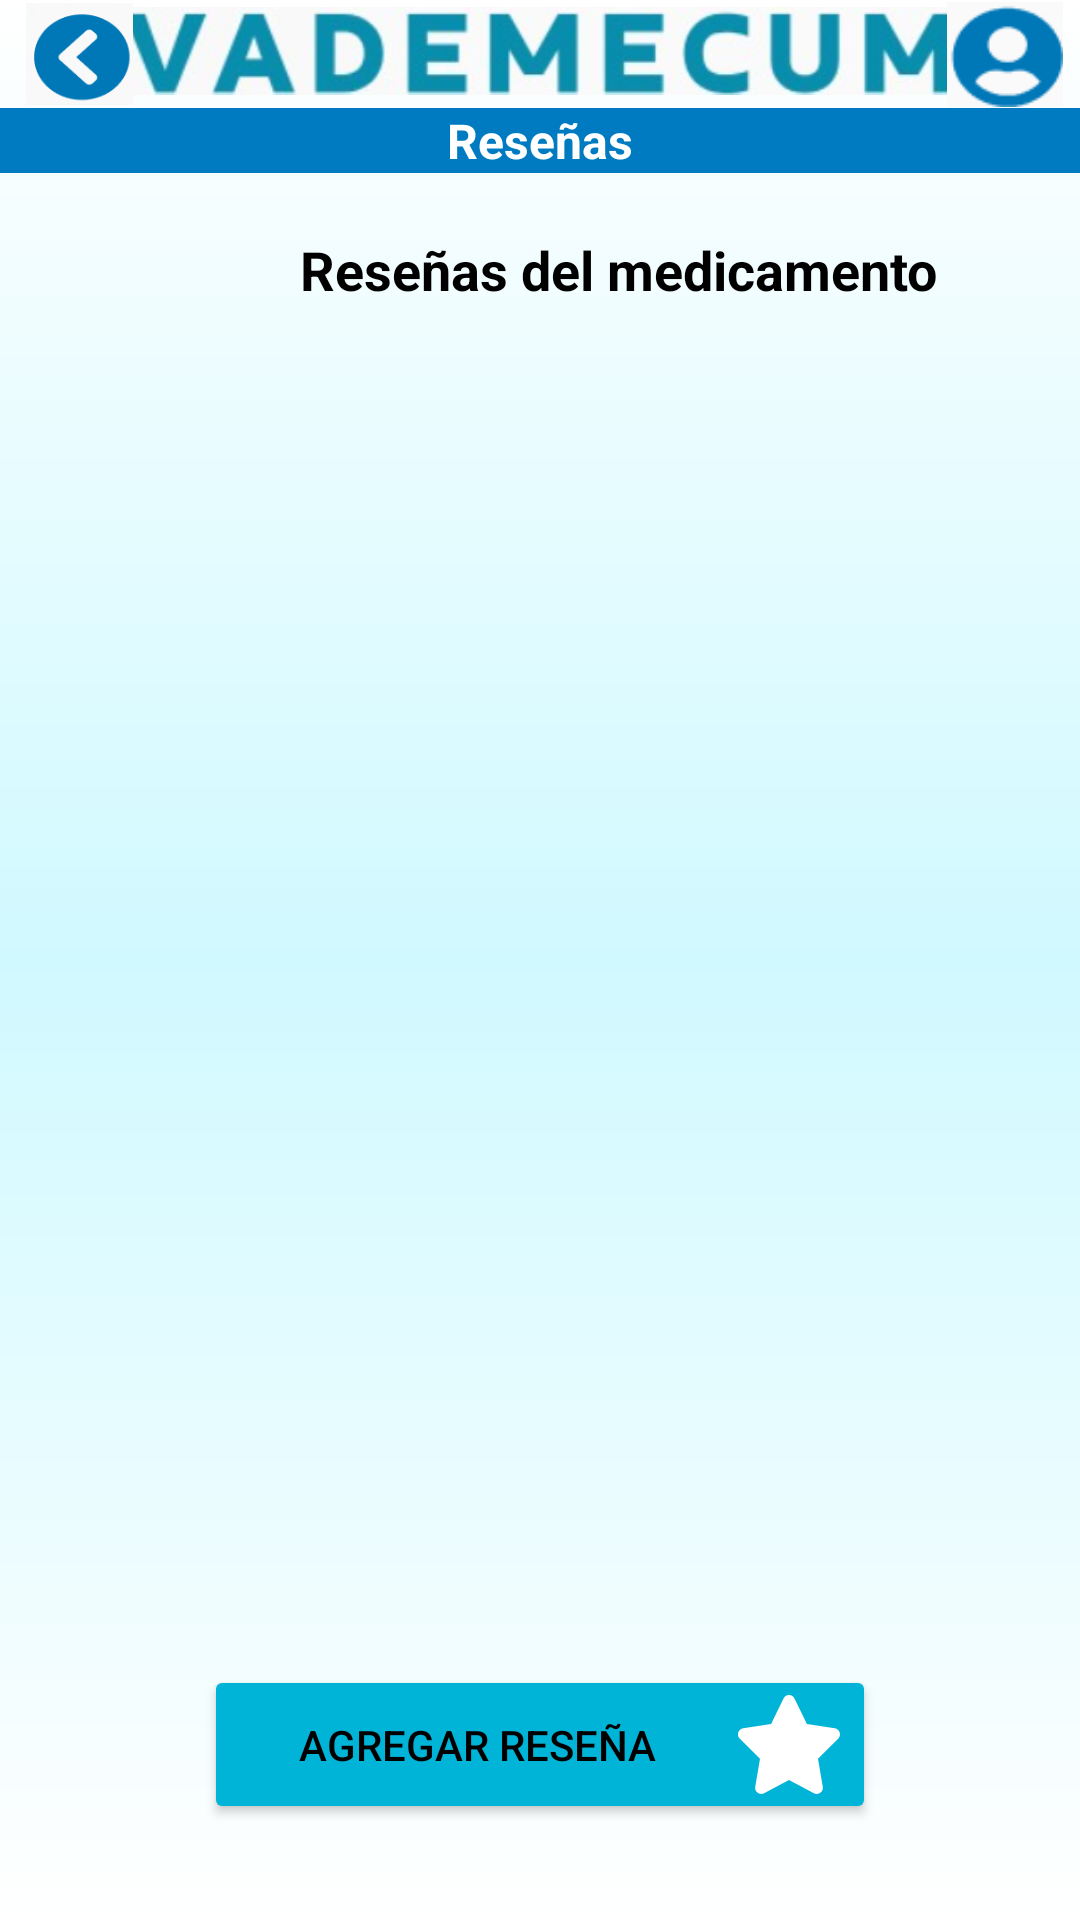

Icon click points for this 1080w x 1920h phone screenshot, format (x=x, y=y):
imgatras: (x=82, y=57)
imgusuario: (x=1005, y=54)
